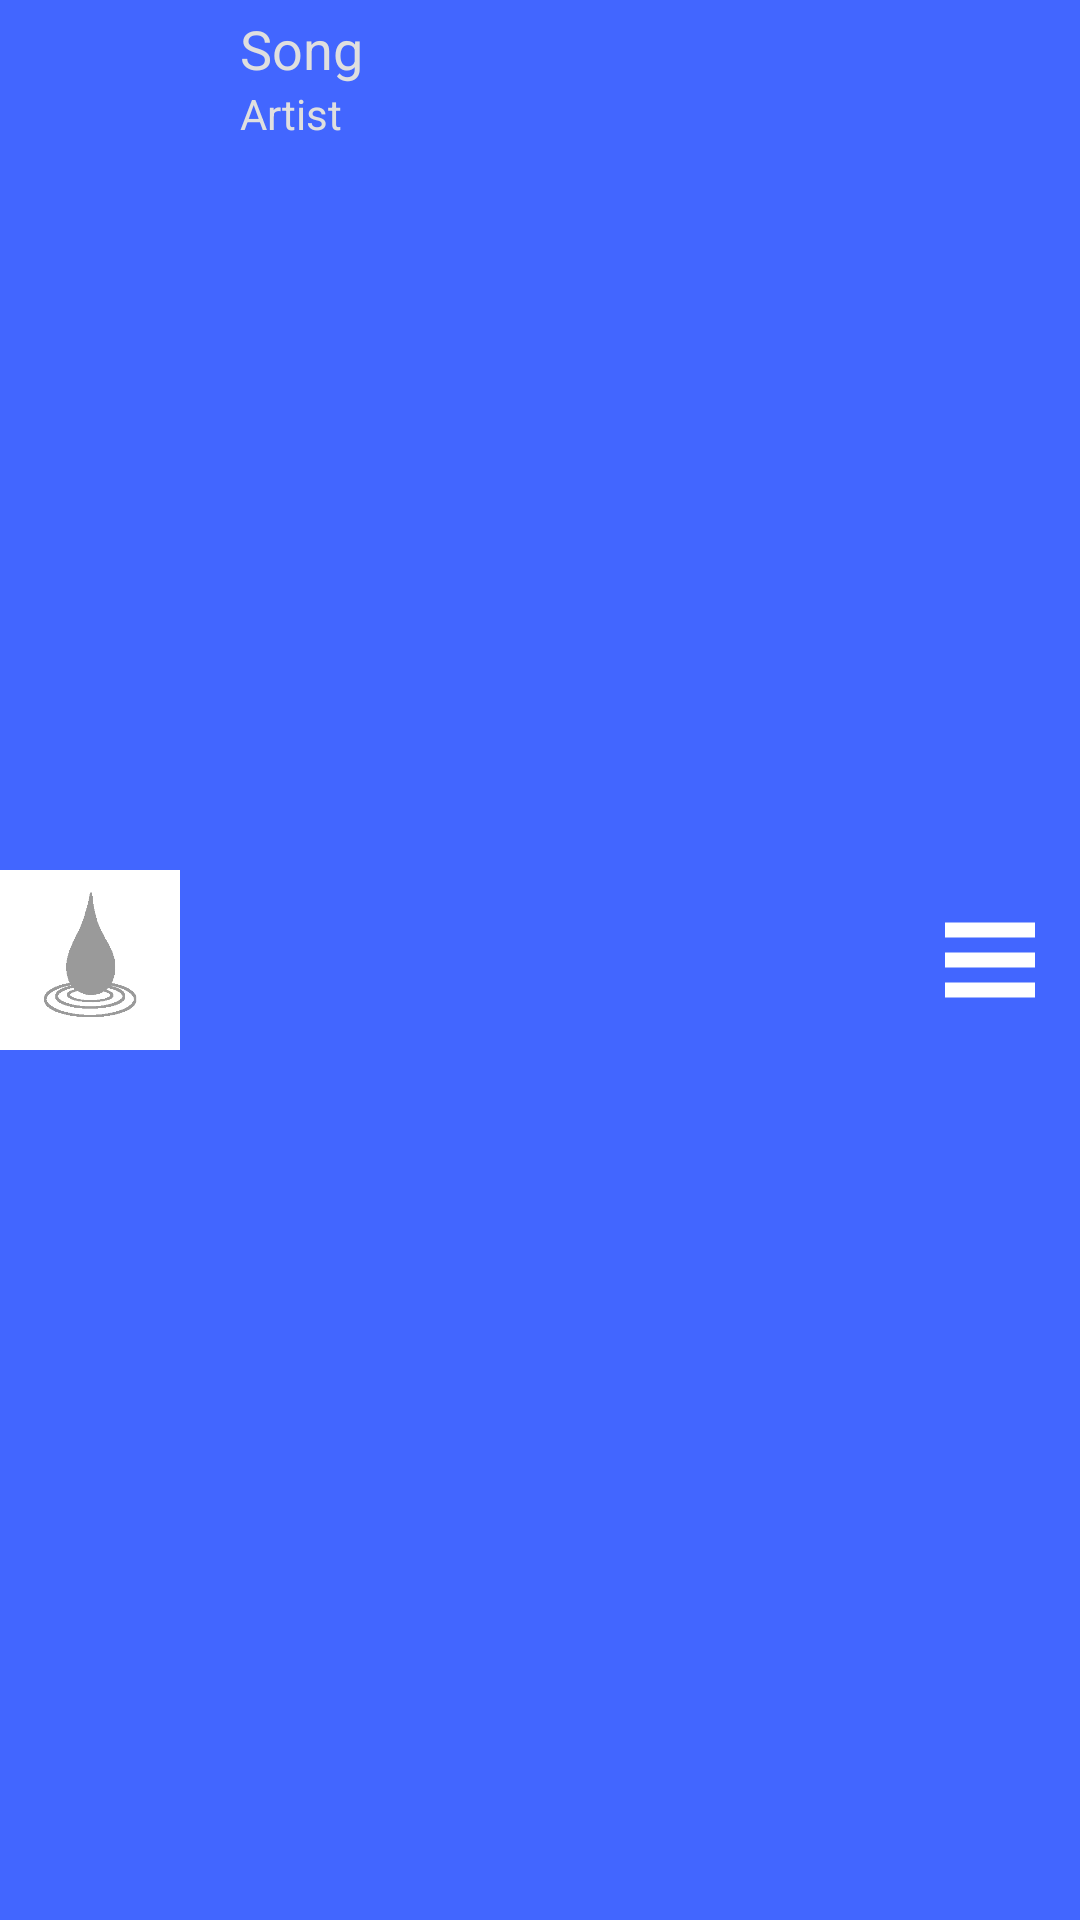

Icons on this 1080×1920 Android screen, each with its box as (x1, y1, x2, y2):
player queue: (945, 922, 1035, 998)
